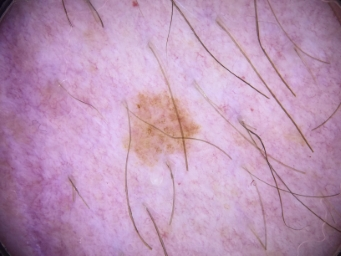melanoma: (124, 92, 199, 169)
